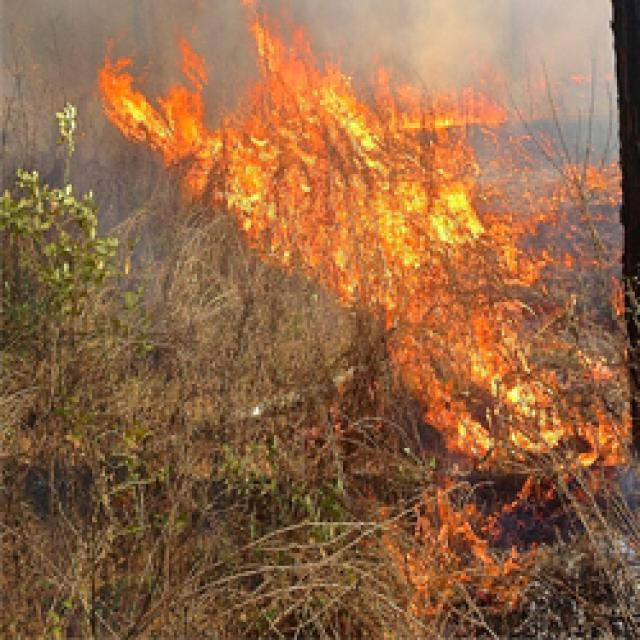Fire: (74, 0, 640, 474), (356, 458, 542, 630)
Smoke: (323, 0, 640, 206), (2, 0, 172, 228)
